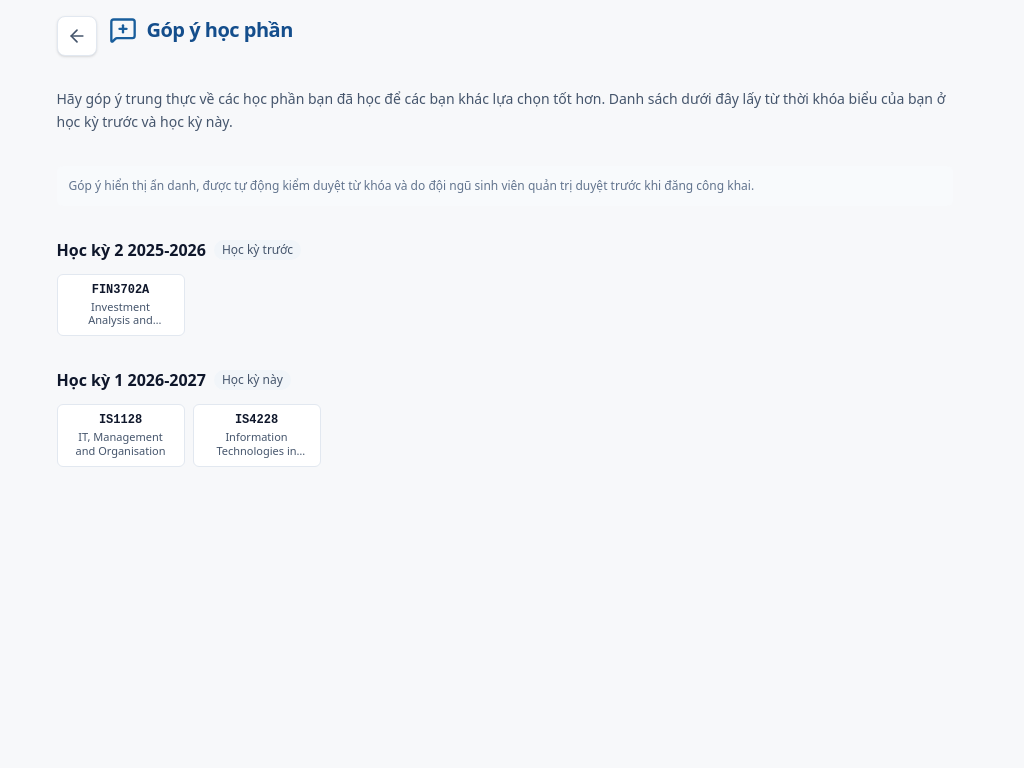
CourseReviewsPage › gửi kèm học kỳ; nội dung được tự duyệt thì hiện 'Đã đăng' và không đóng khối đánh giá
Click the button with aria-label "Góp ý".
click(256, 435)  # box [192, 404, 320, 466]
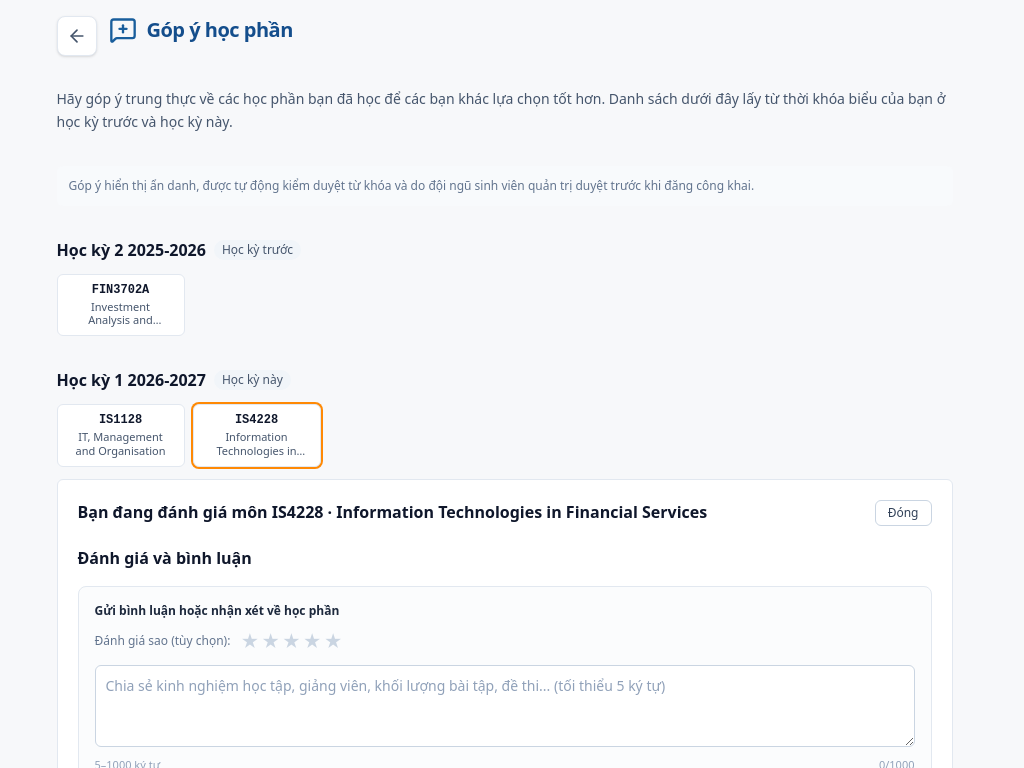
Click the button named "5 sao".
click(333, 640)  # box [324, 626, 342, 654]
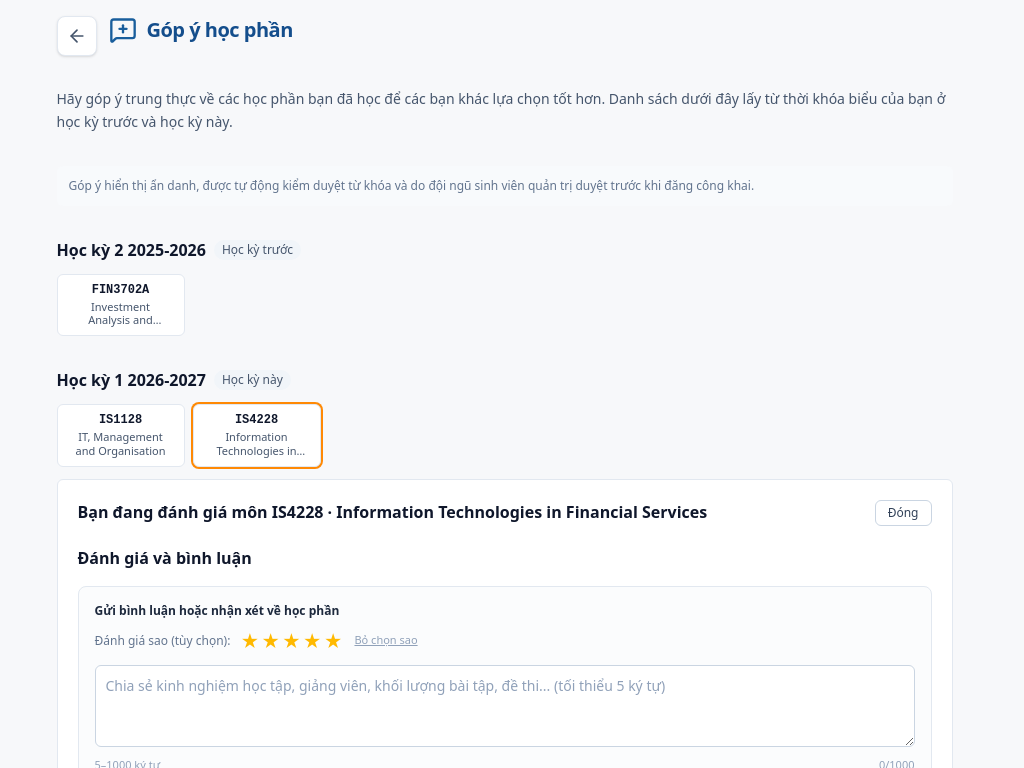
Replace the text in the text box named "Nội dung bình luận" with "Giảng viên dạy rõ ràng, bài tập vừa sức." at [504, 706], box [94, 664, 914, 746]
(page scrolled)
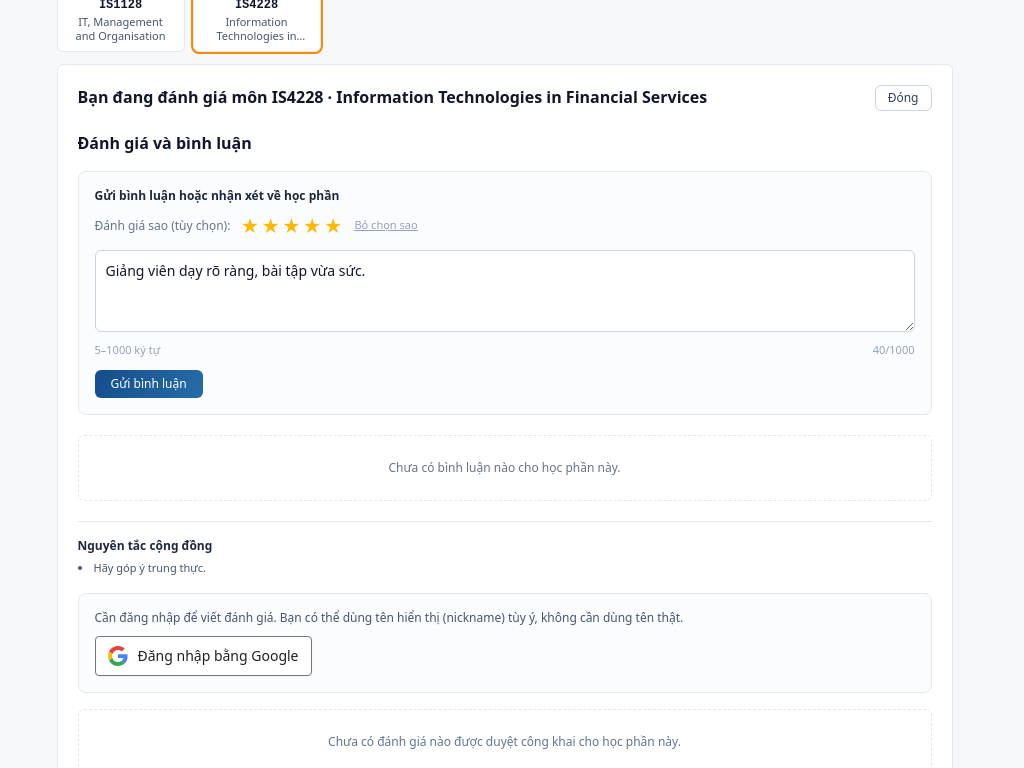
Click the button "Gửi bình luận".
click(149, 384)  # box [94, 370, 203, 398]
(page scrolled)
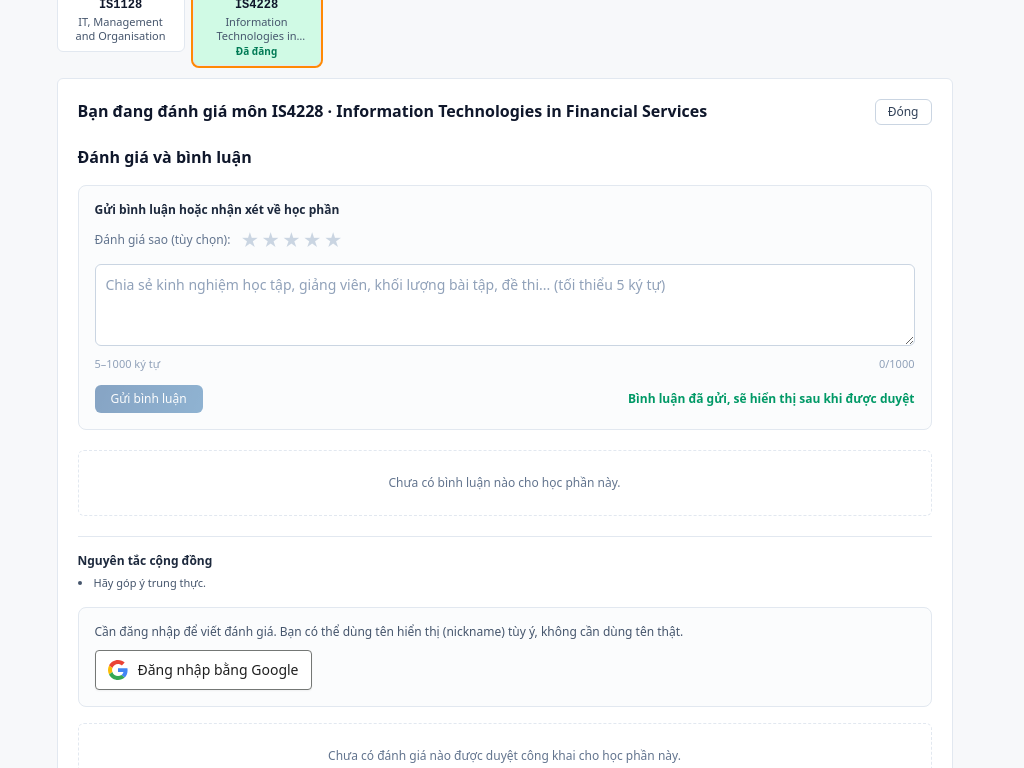
Result: the heading "Bạn đang đánh giá môn IS4228 · Information Technologies in Financial Services" is shown at [78, 99, 707, 123]
Result: the text "Đã đăng" is shown at [236, 44, 277, 57]
